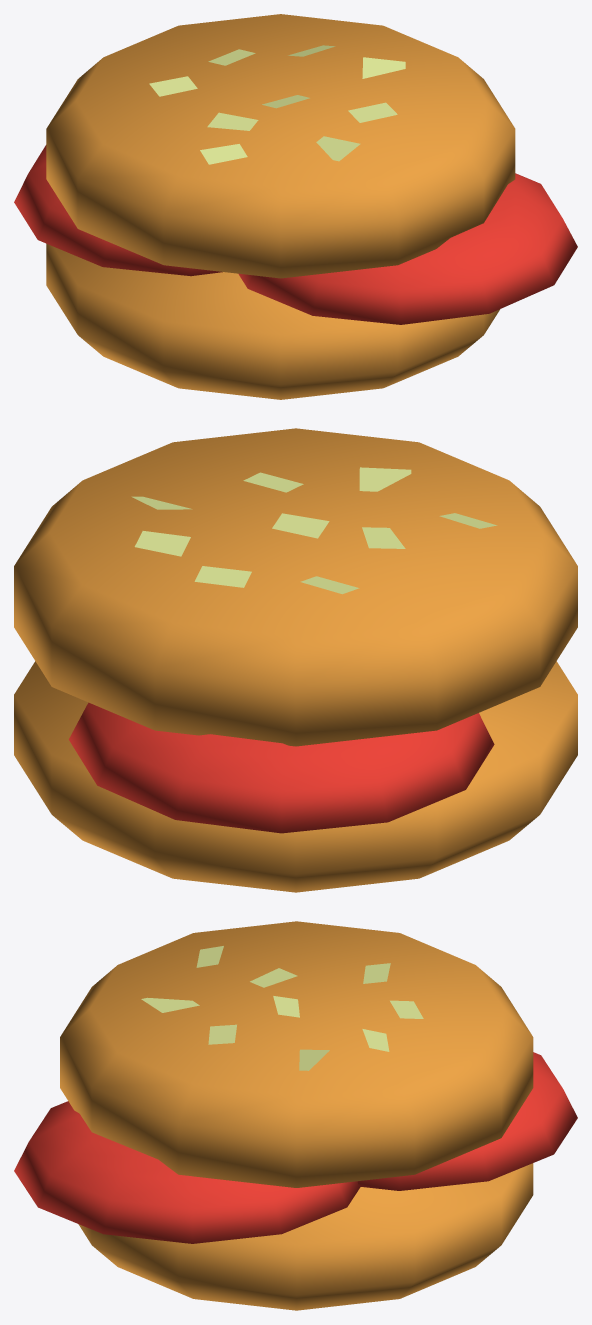
Rendered from Burger(TomatoNoMeat).glb.
The picture shows the model from 3 angles, top to bottom: view 1: azimuth 30°, elevation 25°; view 2: azimuth 150°, elevation 25°; view 3: azimuth 270°, elevation 25°; orthographic projection. The views are drawn at different scales.
Visible parts, largest first — view 1: Cylinder.038; view 2: Cylinder.038; view 3: Cylinder.038.
Boxes of the visible parts, left/top/right/bottom form: Cylinder.038: left=14, top=14, right=577, bottom=399; Cylinder.038: left=14, top=428, right=577, bottom=892; Cylinder.038: left=14, top=921, right=577, bottom=1310.
Size of the model in its own units: 0.4936 by 0.2442 by 0.5625.
